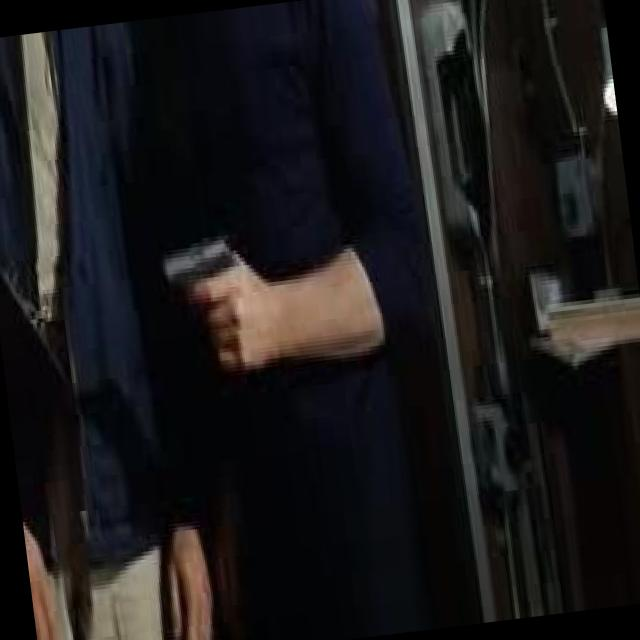Guns: (138, 214, 258, 335)
